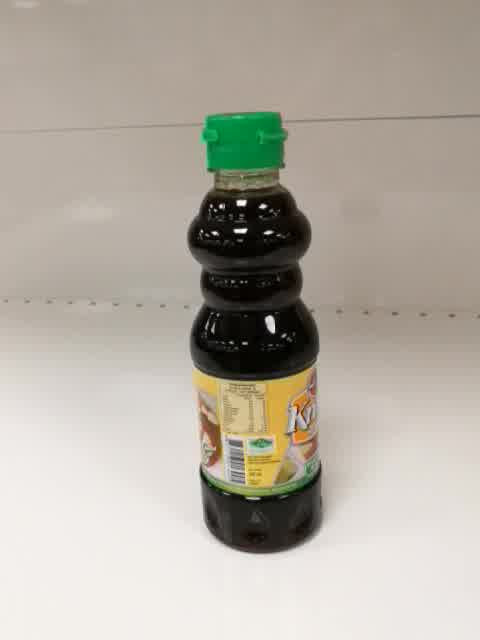cookingoil: (184, 108, 324, 556)
